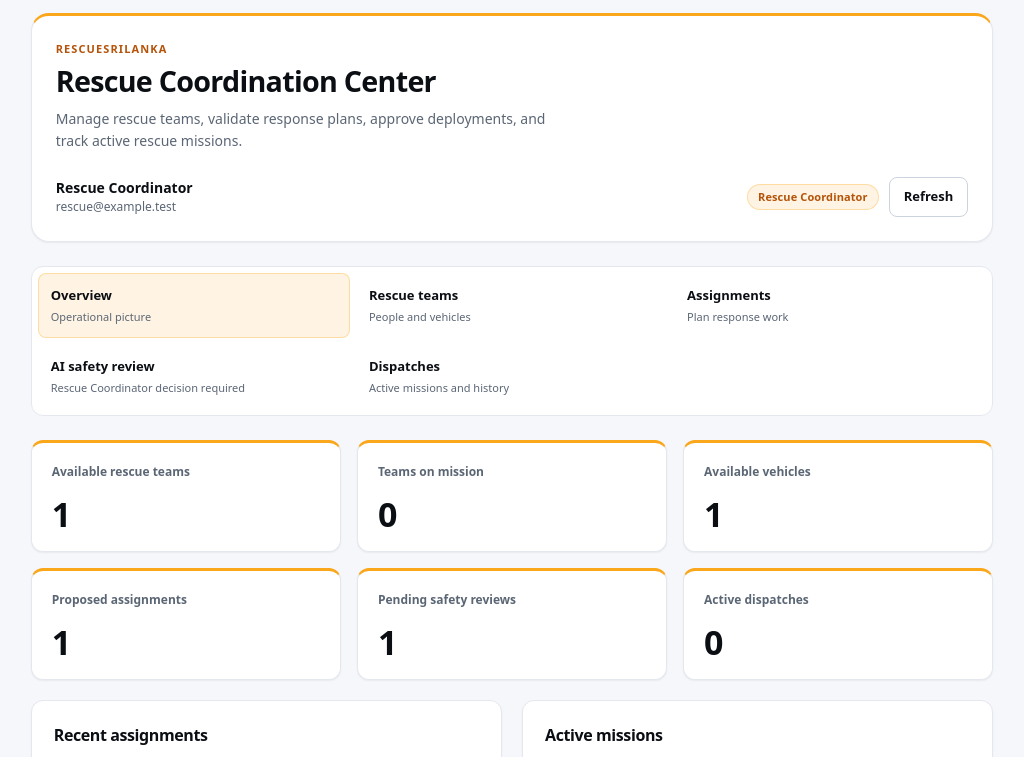
Test case: preserves help objective and uses the existing revision endpoint
Check: the button "Refresh" is enabled, box [889,177,968,217]
Click the button "Assignments Plan response work" at (729, 295), box [674,273,986,338]
(page scrolled)
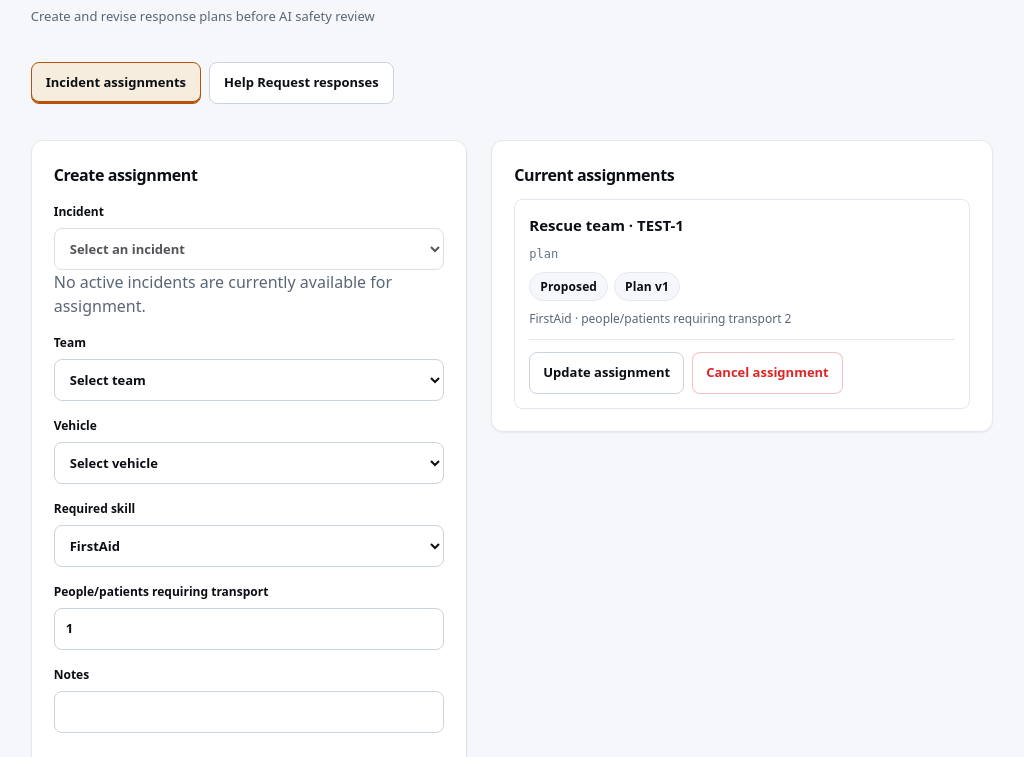
Click the button "Update assignment" at (607, 373), box [529,352,684,394]
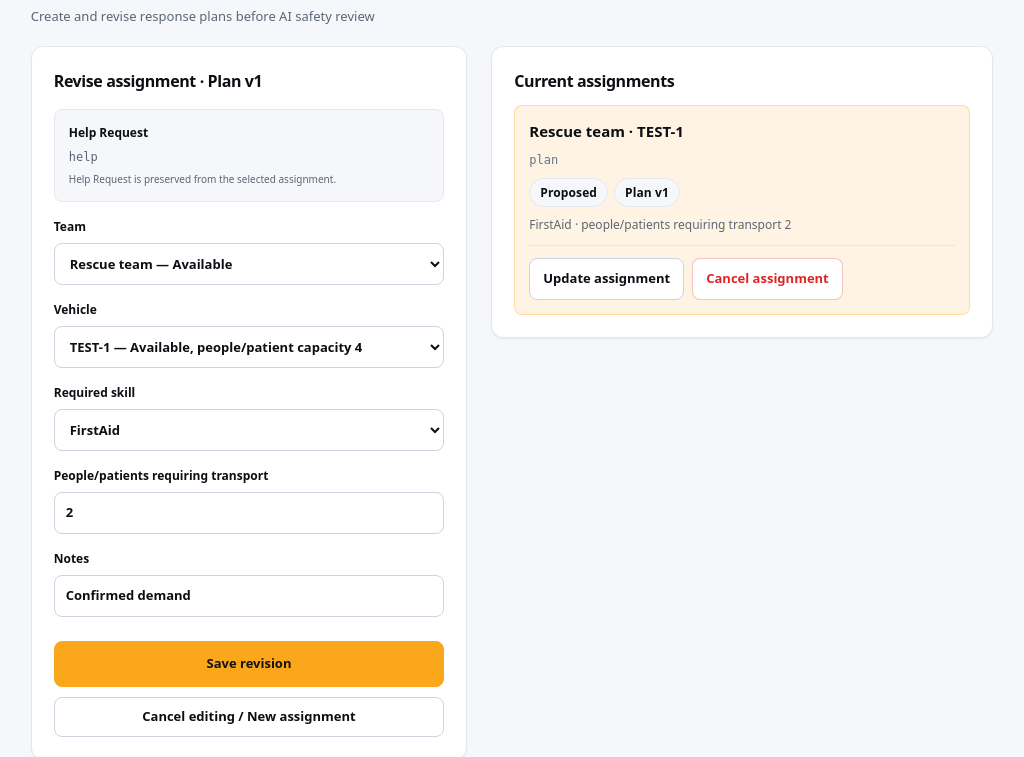
Check: the button "Incident" is gone
Check: the text "Help Request is preserved from the selected assignment." is shown, box [69,172,336,186]
Replace the text in the field labelled "Notes" with "Changed notes" at (249, 596), box [54,575,444,617]
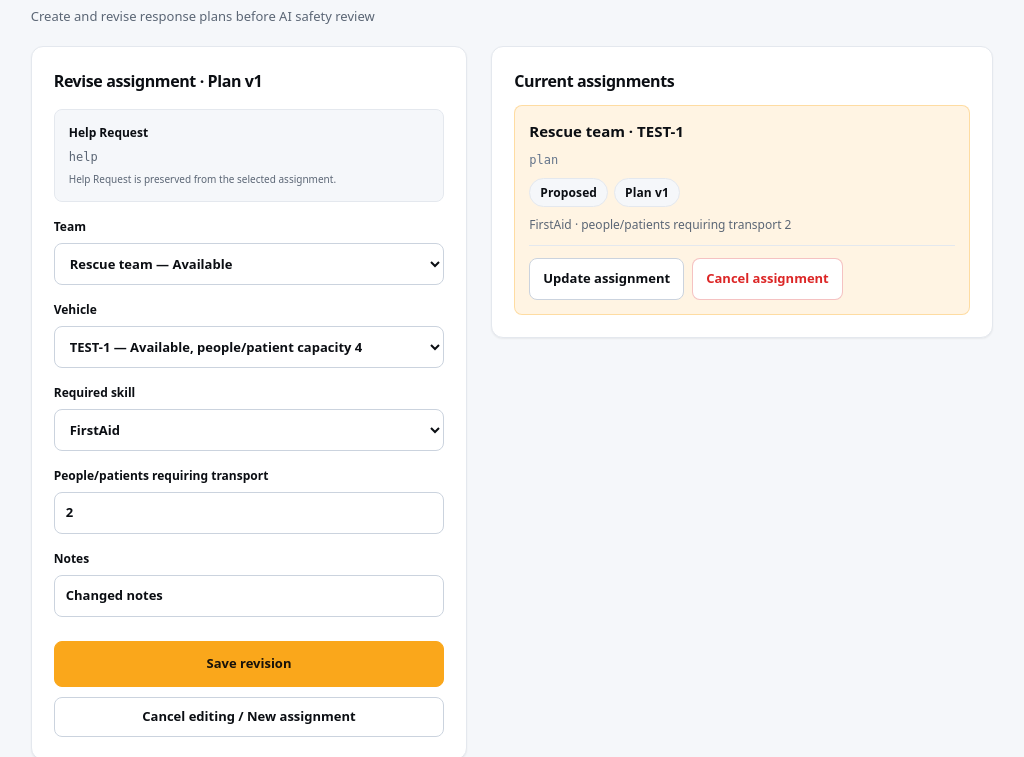
Click the button "Save revision" at (249, 664), box [54,641,444,687]
(page scrolled)
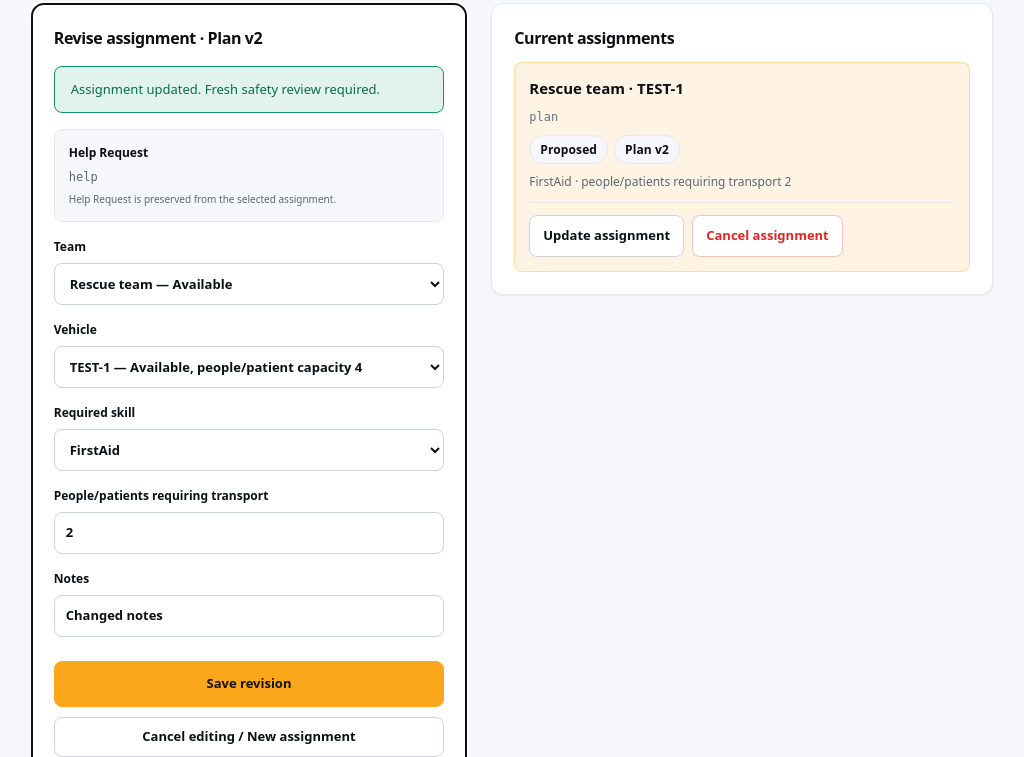
Check: the heading "Revise assignment · Plan v2" is shown, box [54,27,262,49]
Check: the text "Assignment updated. Fresh safety review required." is shown, box [54,66,444,113]
